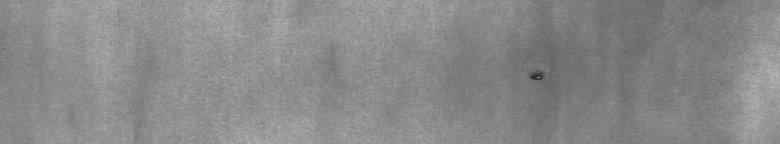fi: (524, 64, 549, 88)
